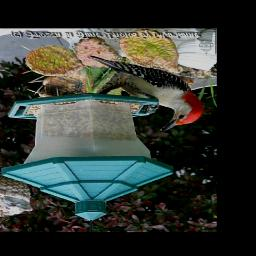Woodpecker: (87, 56, 204, 132)
